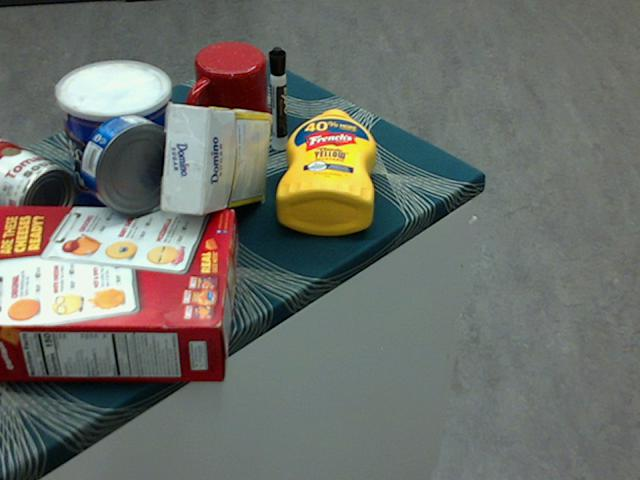cracker_box: (0, 204, 237, 379)
large_marker: (269, 46, 286, 151)
master_chef_can: (57, 62, 178, 241)
mug: (182, 43, 272, 140)
mustard_bottle: (276, 108, 376, 234)
potted_meat_can: (67, 94, 168, 180)
sugar_box: (161, 106, 269, 217)
tomato_soup_can: (0, 133, 74, 230)
tuna_fish_can: (80, 114, 183, 216)
